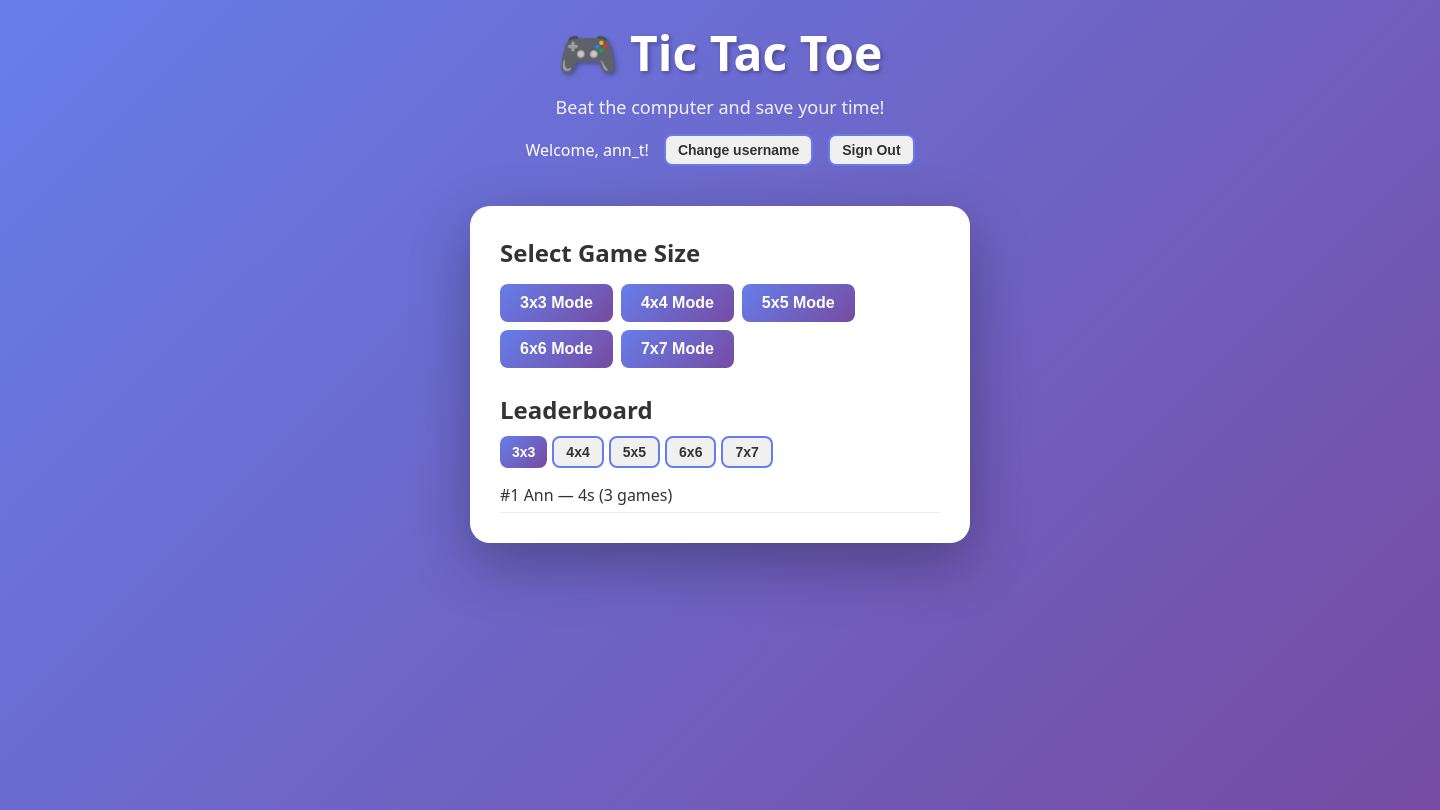
Scenario: App: choosing a username › lets a player change an existing username
Click the button "Change username". click: (739, 150)
box: [664, 134, 813, 166]
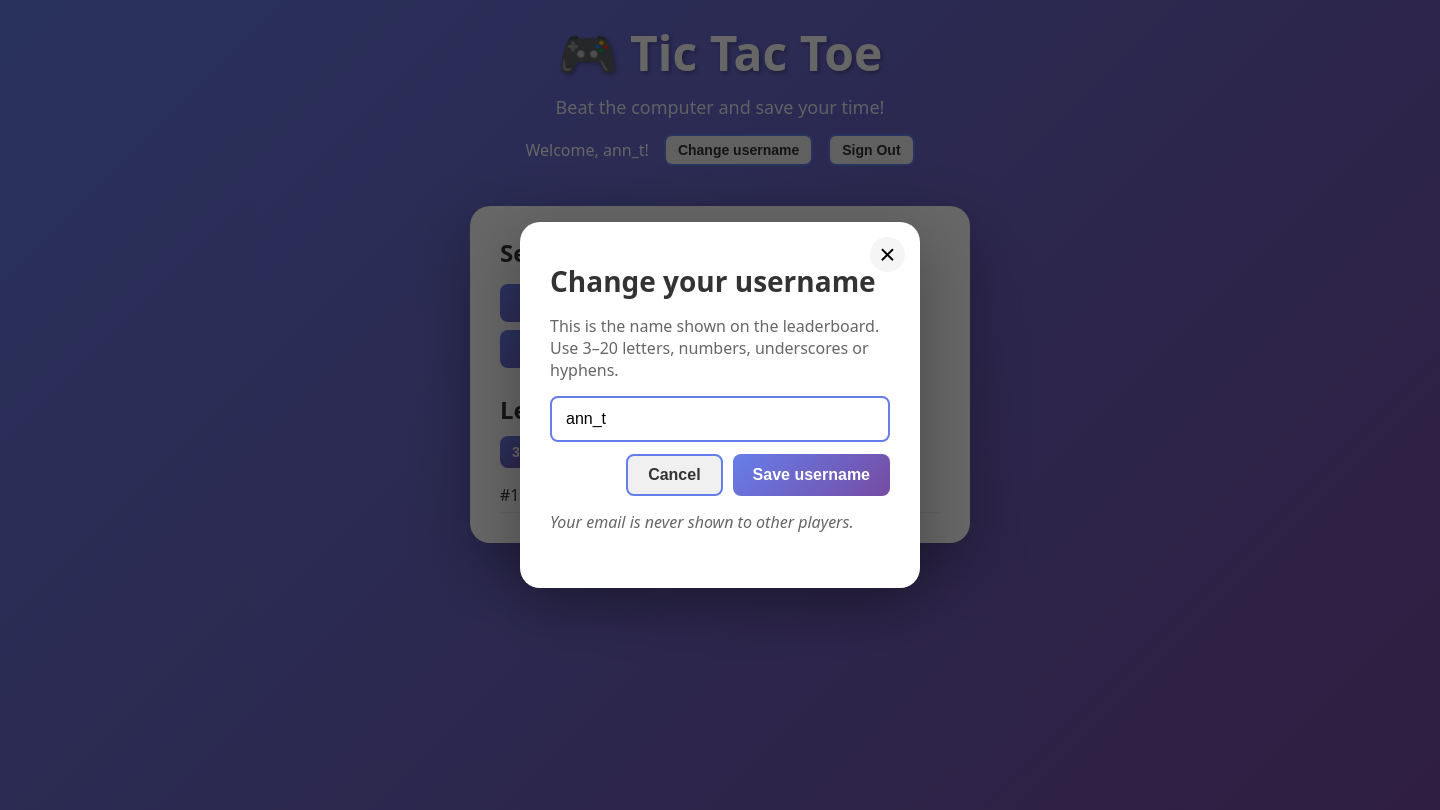
Check: the heading "Change your username" is shown, box [550, 262, 890, 300]
Check: the field named "Username" holds "ann_t"
Replace the text in the field named "Username" with "ann_new". click: (720, 419)
box: [550, 396, 890, 442]
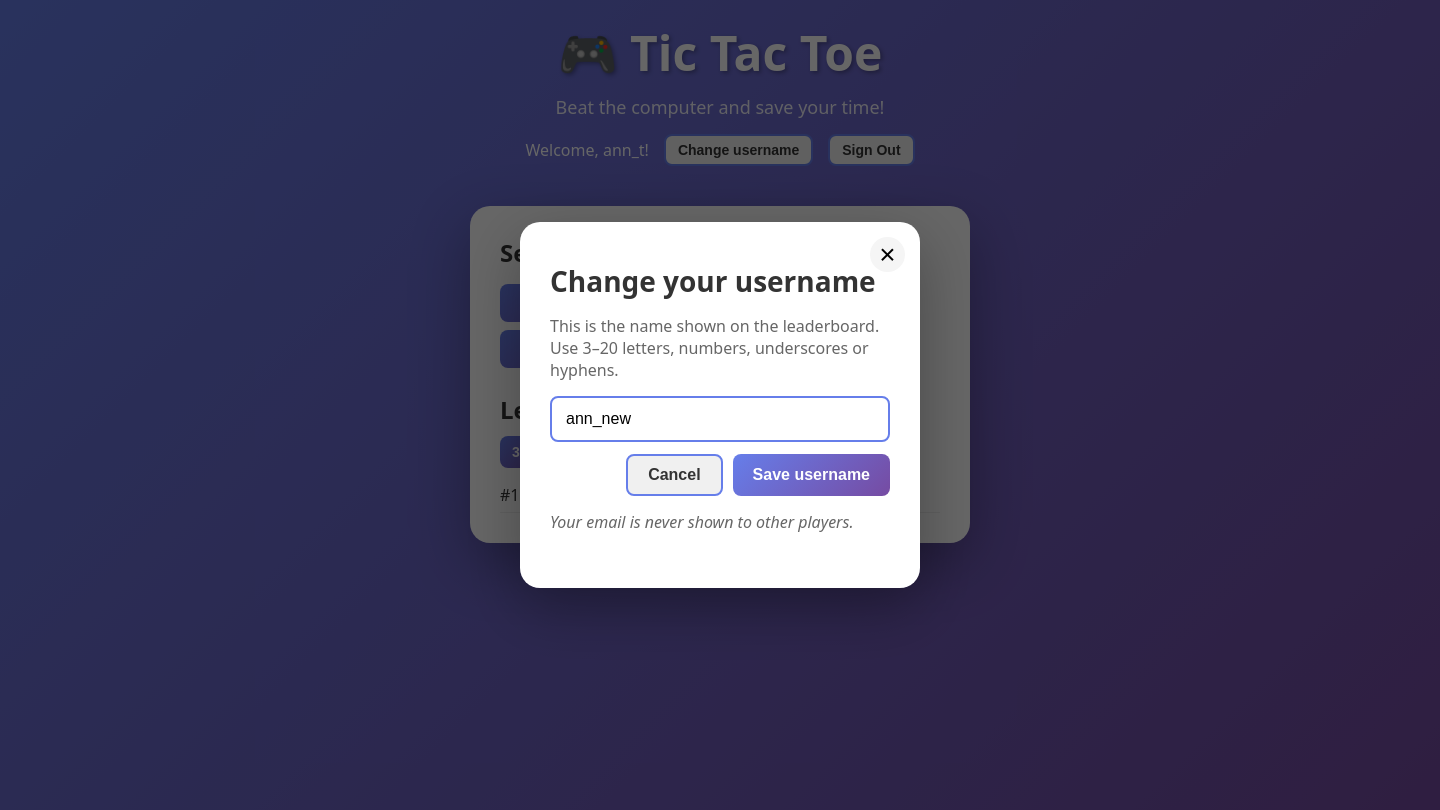
Click the button "Save username". click: (811, 475)
box: [733, 454, 890, 496]
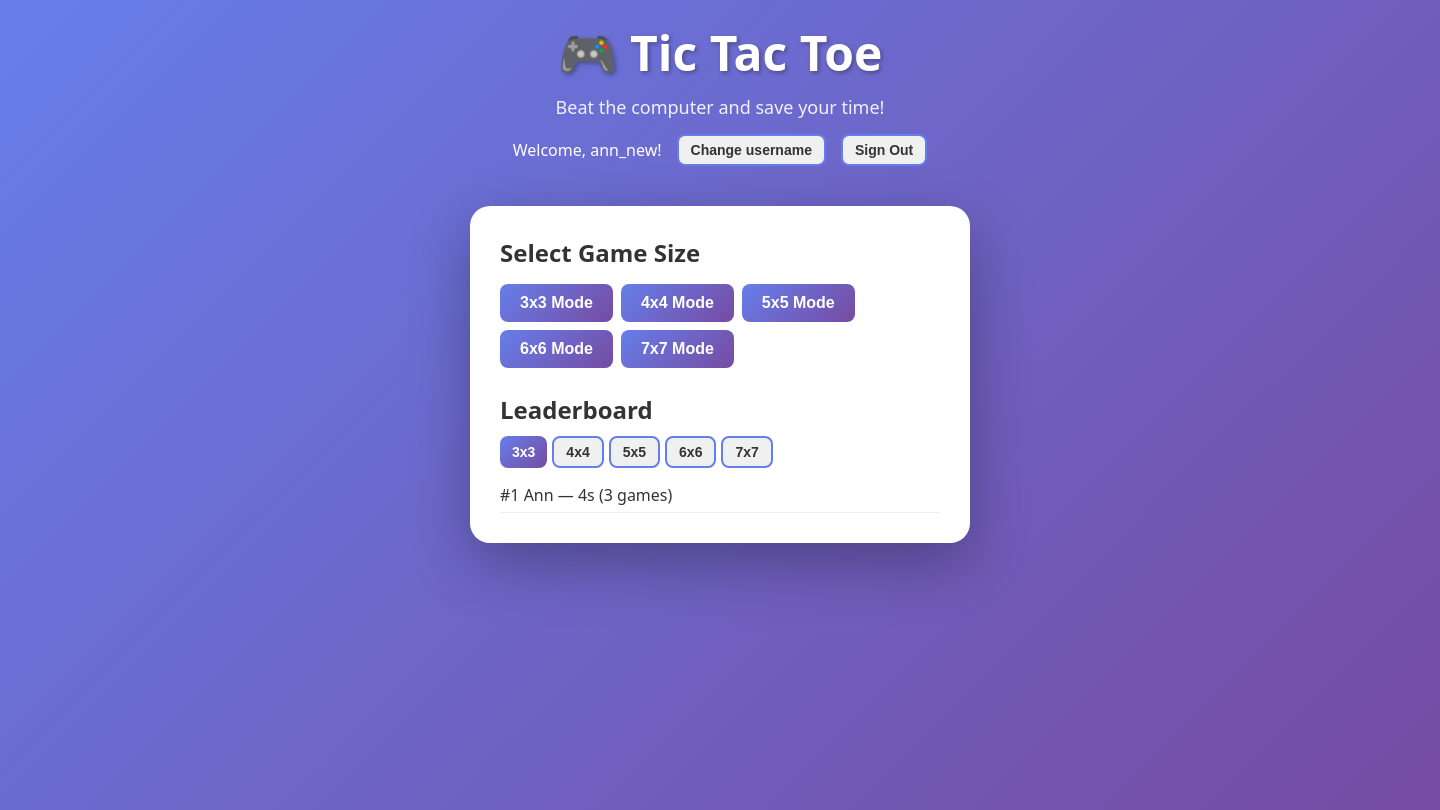
Check: the text "Welcome, ann_new!" is shown, box [513, 139, 662, 161]
Check: the heading "Change your username" is gone
